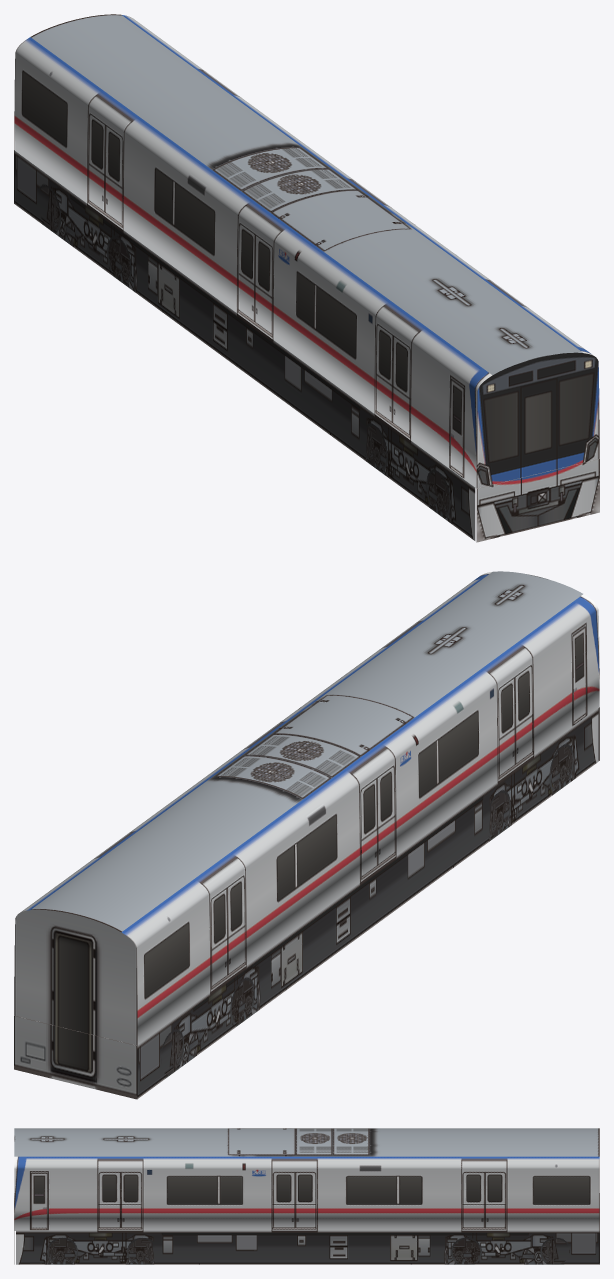
File: car1.glb
3 renders of one model, top to bottom at view 1: azimuth 30°, elevation 25°; view 2: azimuth 150°, elevation 25°; view 3: azimuth 270°, elevation 25°, orthographic. The views are drawn at different scales.
Parts seen in each view (by area): view 1: keisei-3200-car1; view 2: keisei-3200-car1; view 3: keisei-3200-car1.
Part boxes in pixels (left/top/right/bottom): keisei-3200-car1: left=14, top=14, right=599, bottom=542; keisei-3200-car1: left=14, top=571, right=599, bottom=1099; keisei-3200-car1: left=14, top=1128, right=599, bottom=1264.
Bounding box in the file's own units: 2.77 × 3.64 × 18.03.
Materials: 9 (8 with a texture image).
